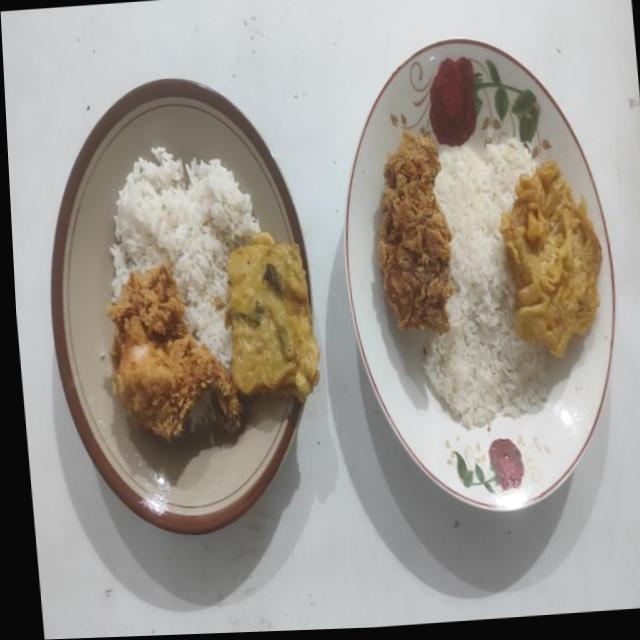nasi_putih: (423, 138, 546, 428), (110, 146, 259, 369)
